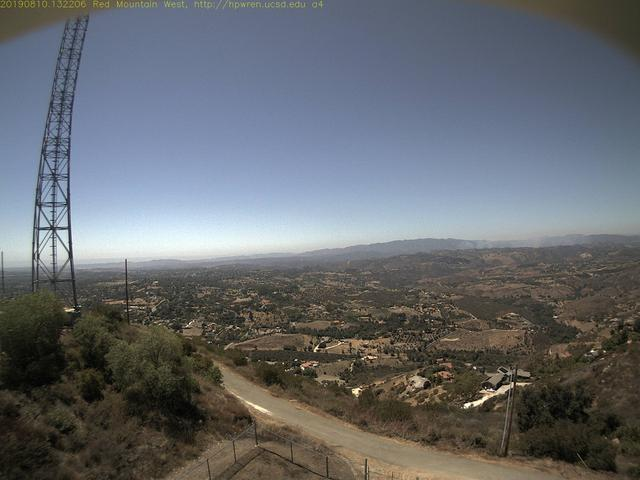smoke: (455, 224, 599, 252)
